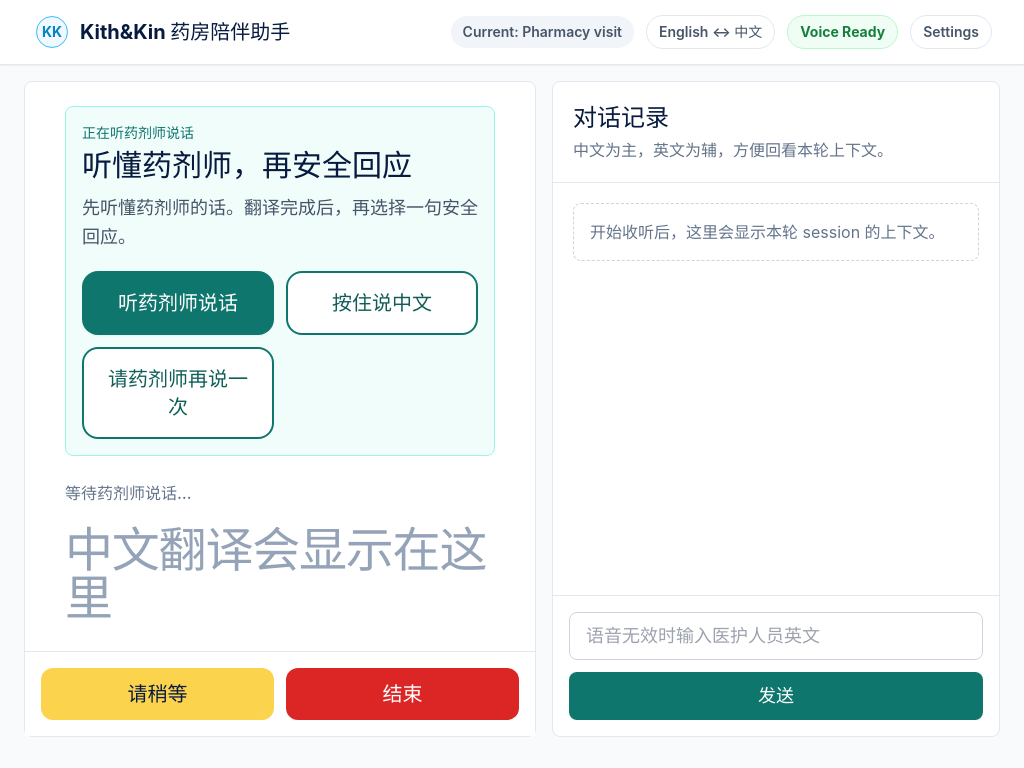
ConversationPage › filters out system reasoning from subtitles and logs in user mode
This screenshot has width=1024, height=768.
Expected: the text "等待进一步指示" is not shown
Toggle devMode
Click the button with test id "dev-mode-toggle". click: (163, 32)
box: x1=32 y1=12 x2=294 y2=52
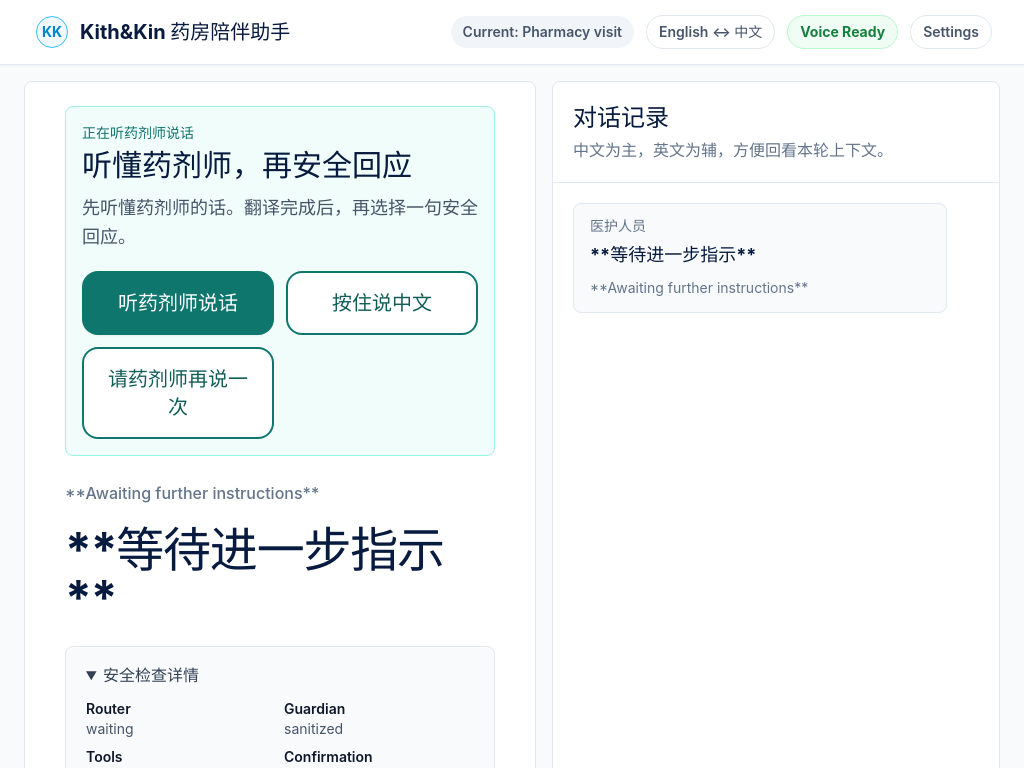
Expected: the text "**等待进一步指示**" below "先听懂药剂师的话。翻译完成后，再选择一句安全回应。" is shown, x1=65 y1=520 x2=444 y2=627
